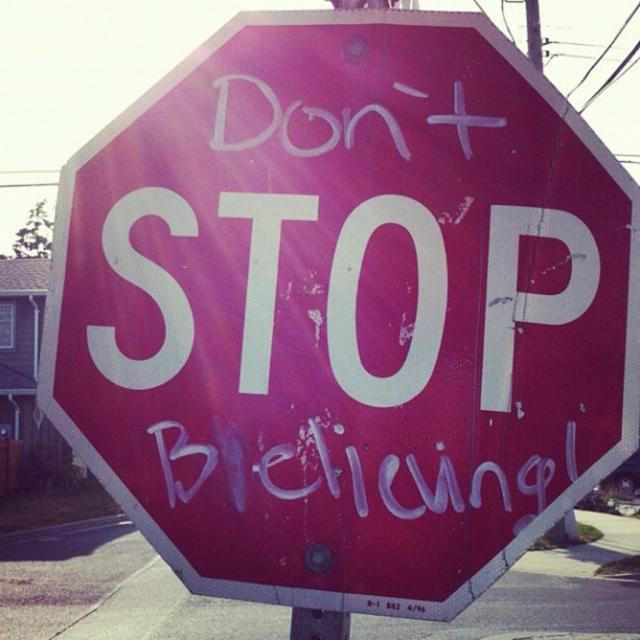Stop-sign: (34, 11, 639, 624)
